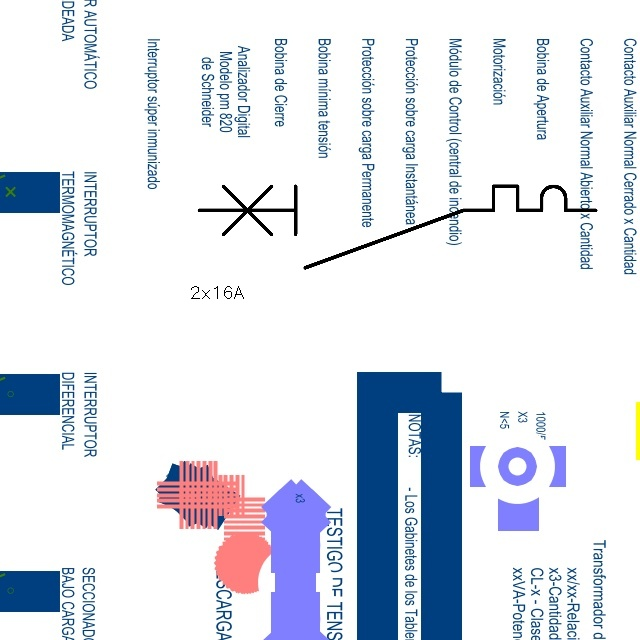interruptor_termomagnetico: (189, 176, 606, 278)
